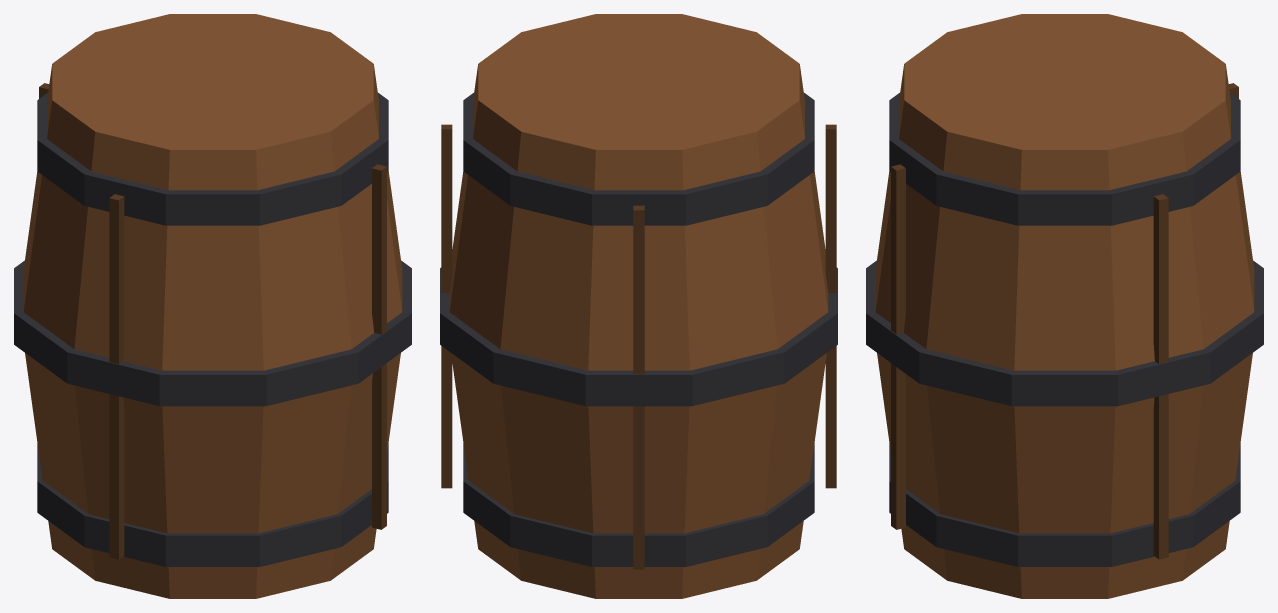
Rendered from Quench_Barrel.fbx.
3 views of the same model, side by side, from view 1: azimuth 30°, elevation 25°; view 2: azimuth 150°, elevation 25°; view 3: azimuth 270°, elevation 25° (orthographic).
Parts seen in each view (by area): view 1: Quench_Barrel; view 2: Quench_Barrel; view 3: Quench_Barrel.
Part boxes in pixels (x1,y1,x2,y2): Quench_Barrel: (14, 14, 411, 598); Quench_Barrel: (440, 14, 837, 598); Quench_Barrel: (866, 14, 1263, 598).
Size of the model in its own units: 0.7225 by 0.9 by 0.7225.
